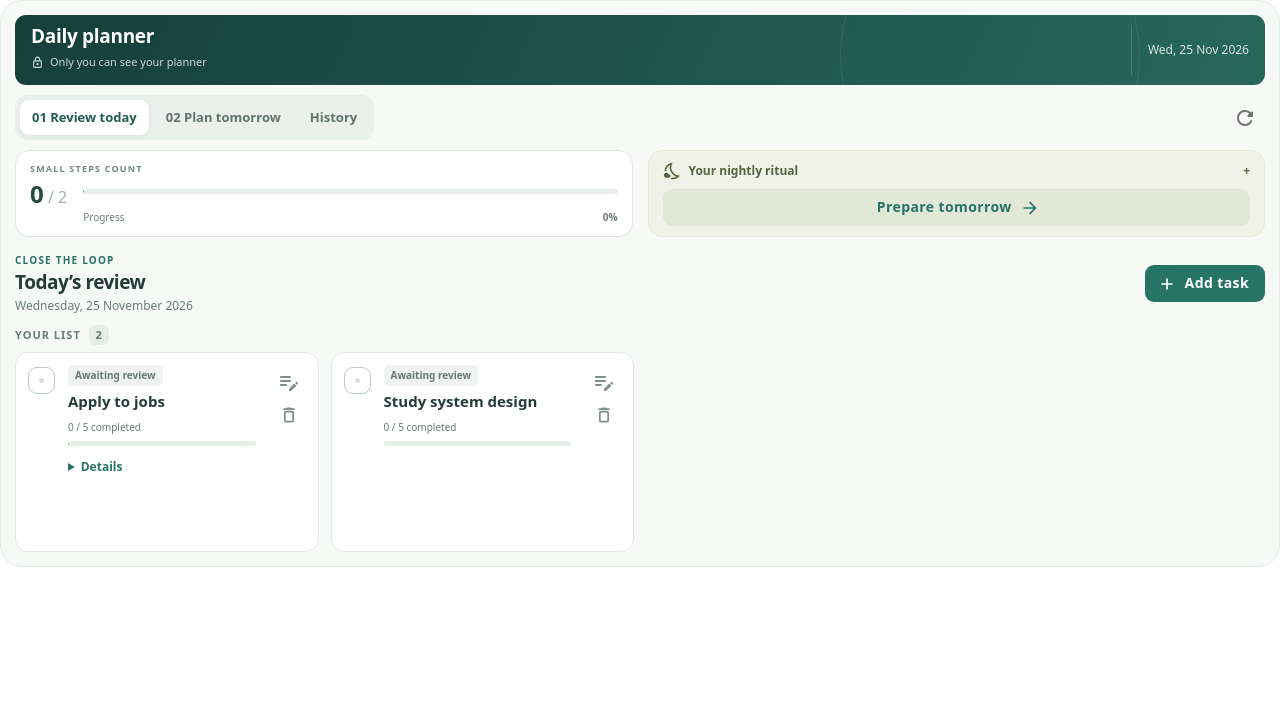
tasks share a grid and long notes are collapsed until requested
The width and height of the screenshot is (1280, 720).
Later steps or results of the test are not shown.
Click the heading named "Details for Apply to jobs" at (102, 466), box 81,458 -> 122,475
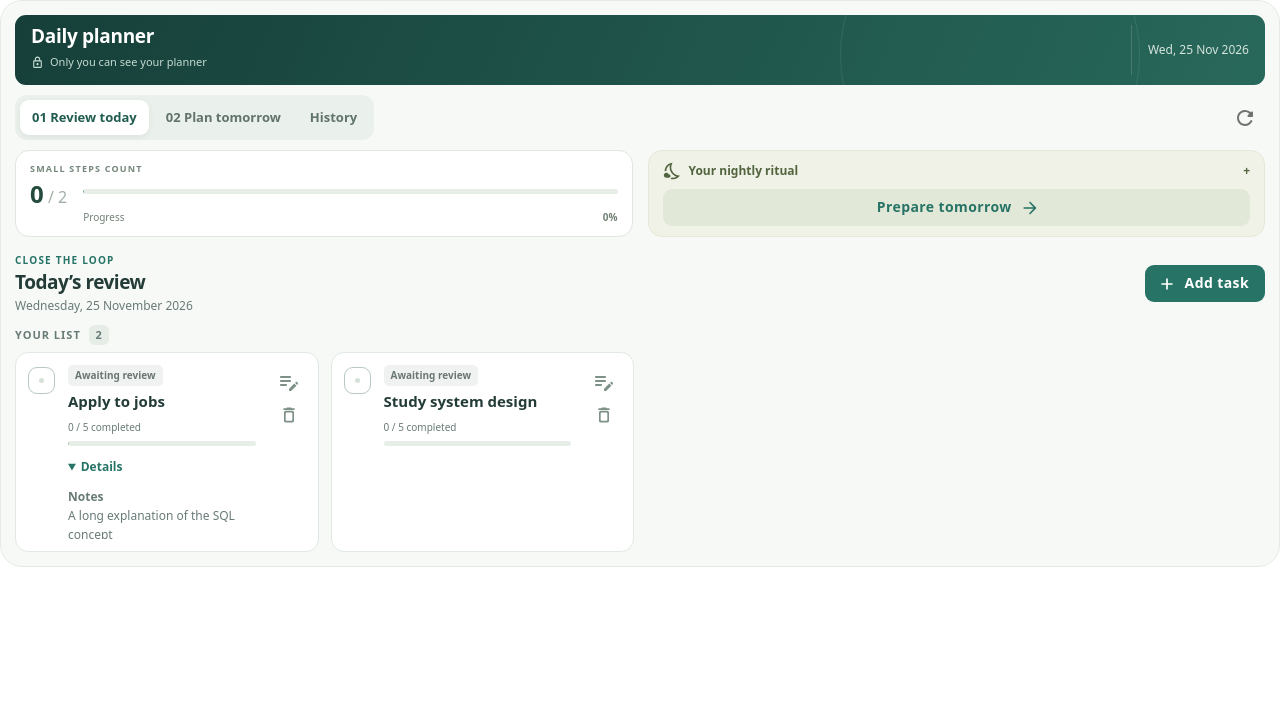
Expected: the text "A long explanation of the SQL concept" has attribute open, 68,454 -> 256,539
